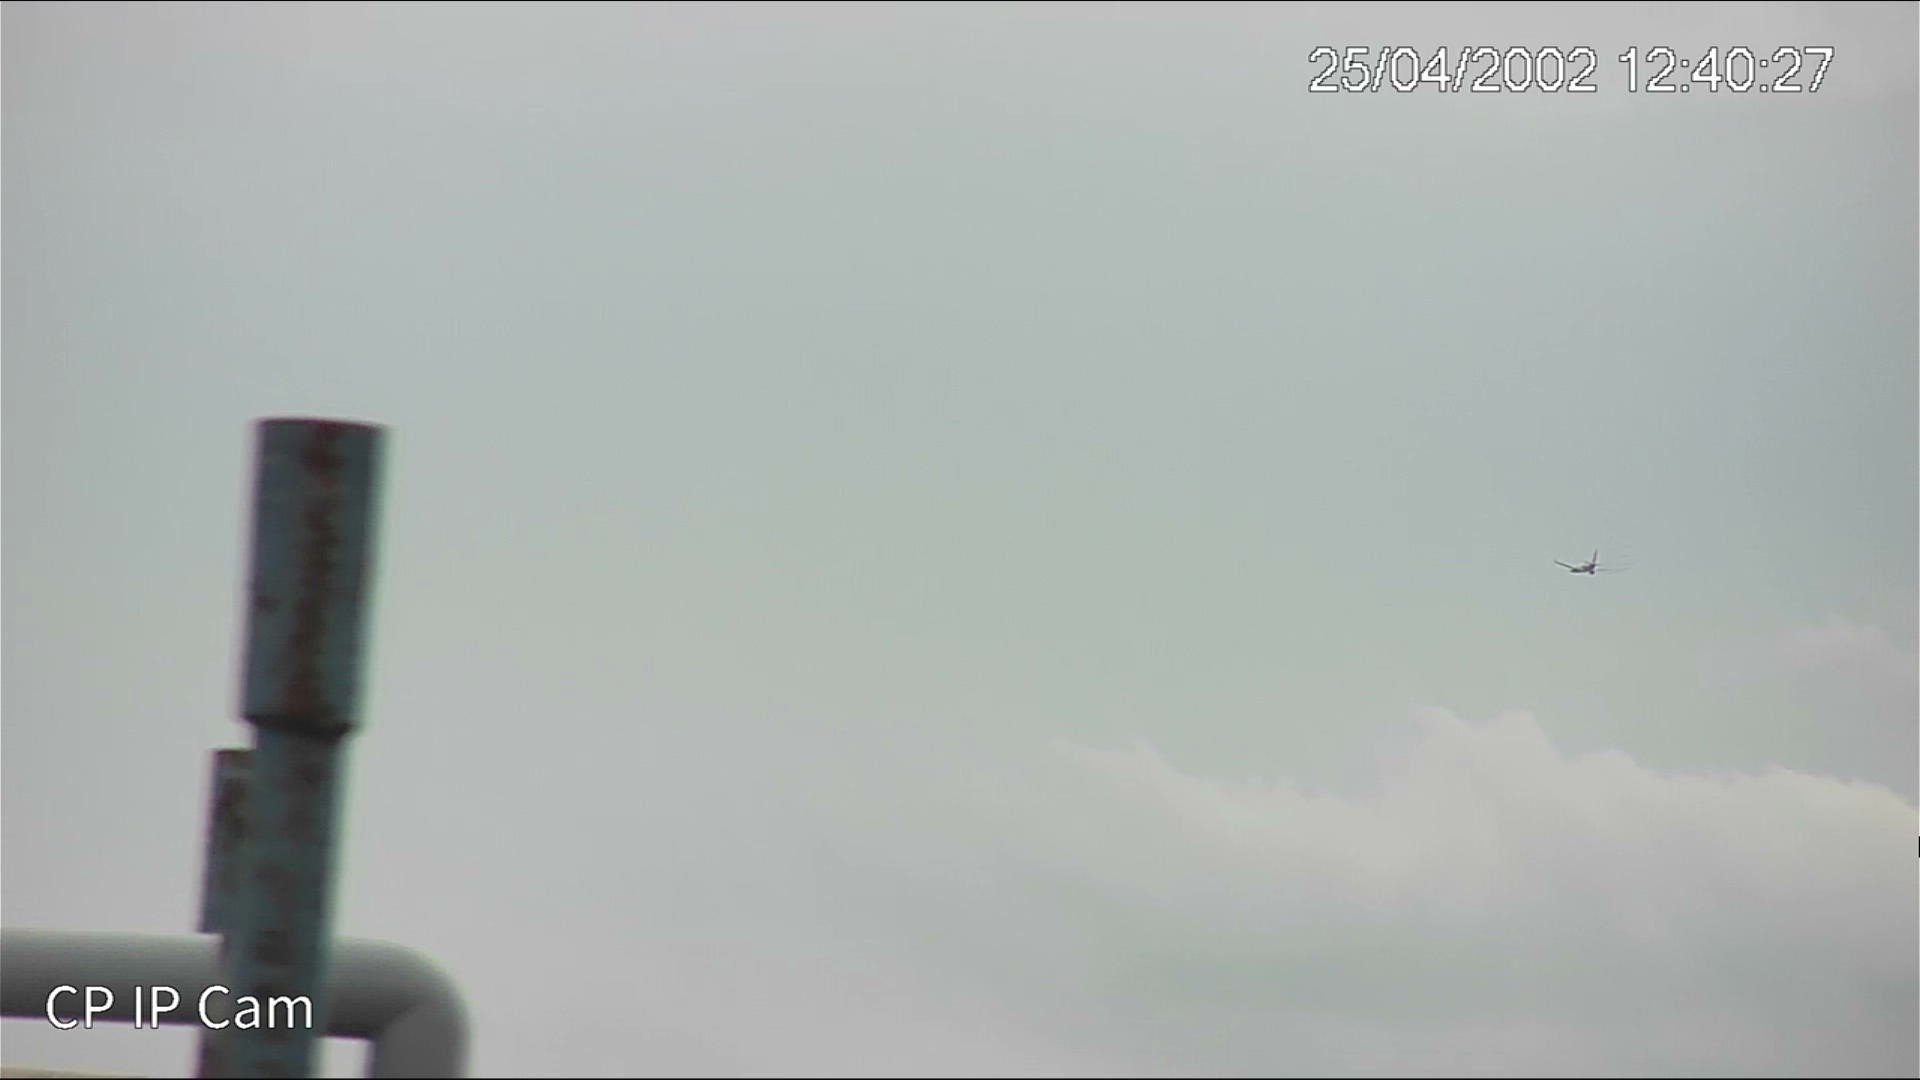SU_30: (1548, 549, 1605, 580)
